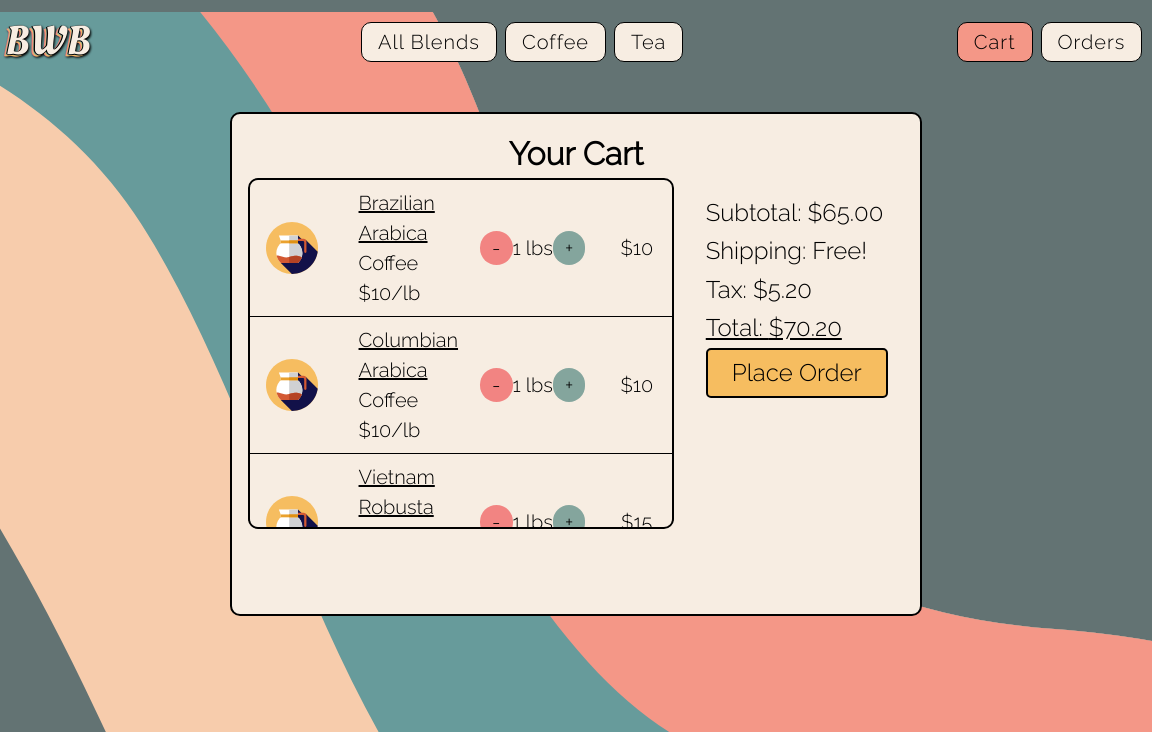
Scenario: Cart › should be able to increase and decrease an item's quantity
Step 1. Click the button with class "cart-counter--increase-btn" below "Brazilian Arabica" → [569, 248], box [553,231,585,264]
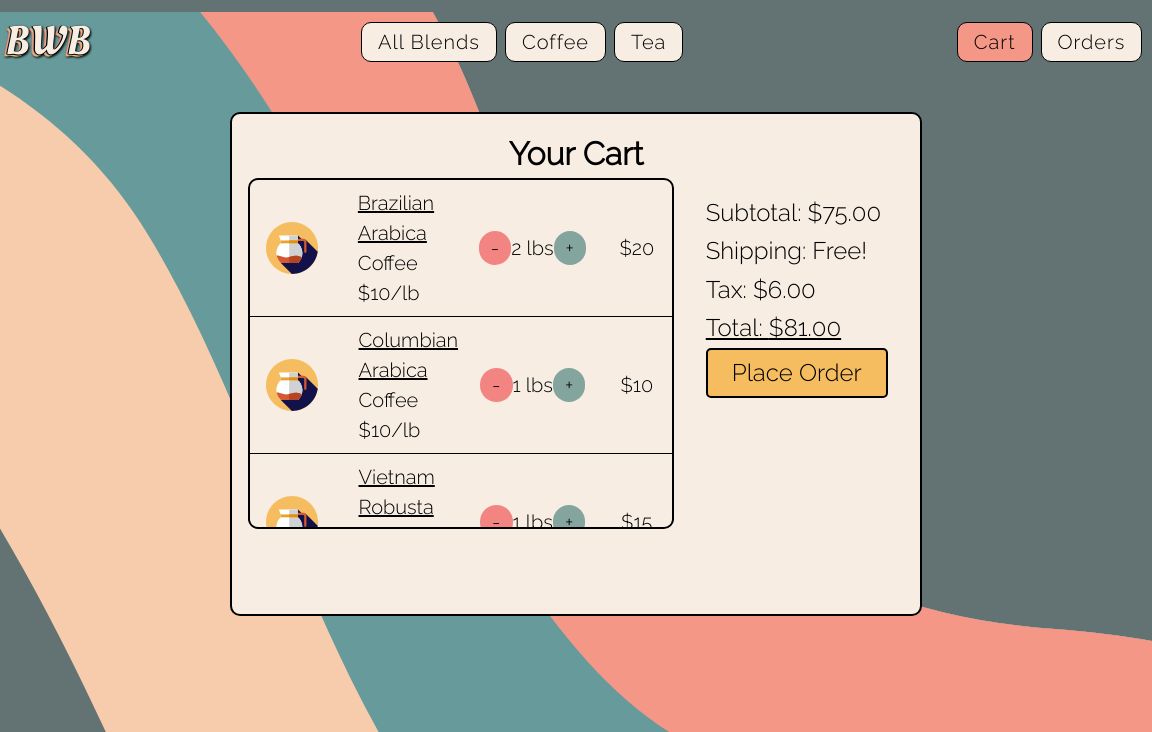
Step 2. Click the button with class "cart-counter--decrease-btn" in the row of "20" → [496, 248], box [479,231,512,264]
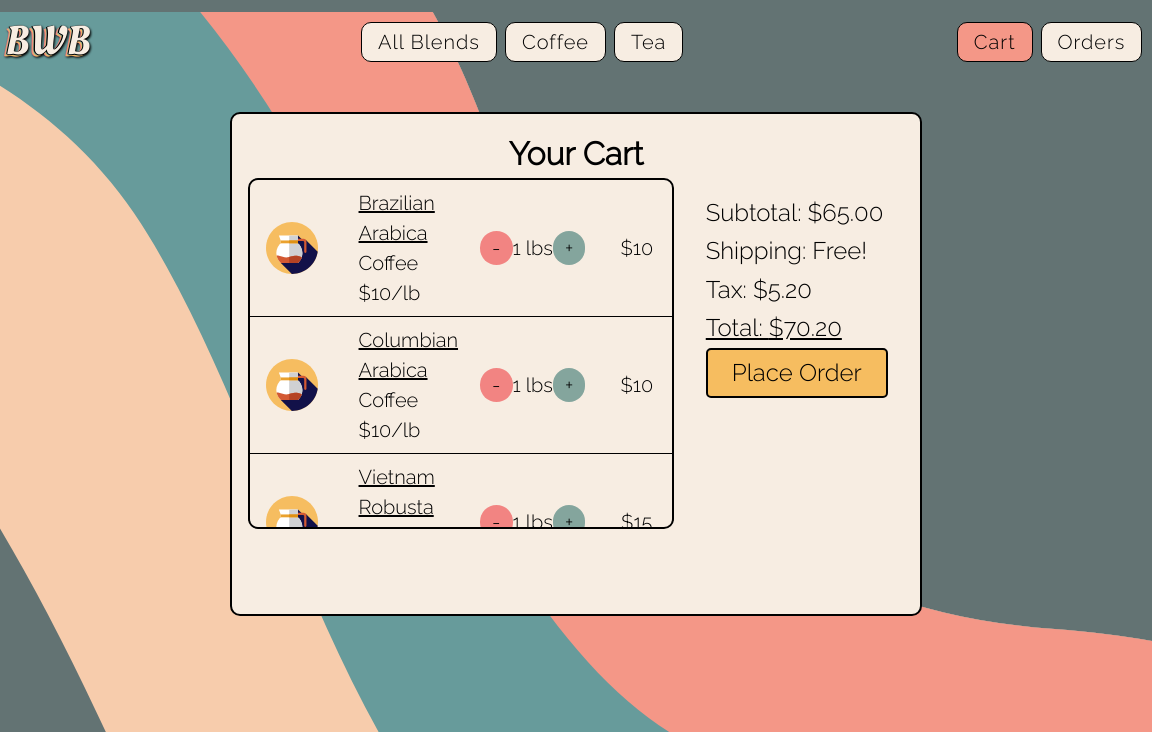
Now the text "1 lbs" below "Brazilian Arabica" is shown, box [513,233,553,263]
